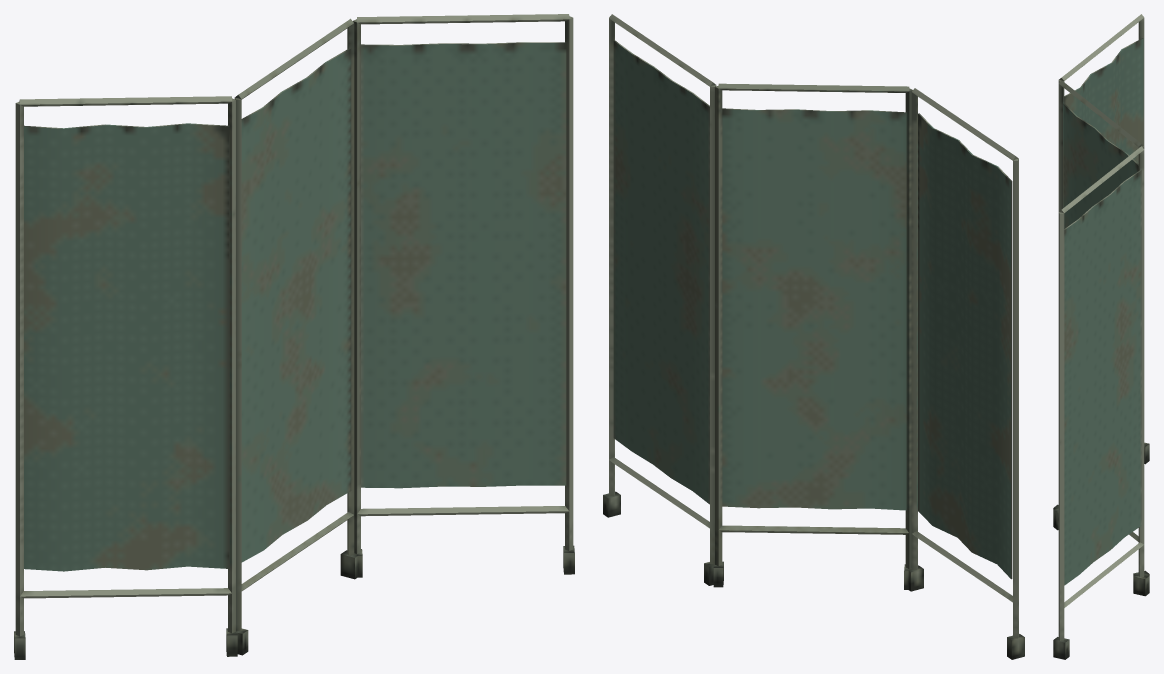
File: Folding_Screen_01.obj
3 views of the same model, side by side, from view 1: azimuth 30°, elevation 25°; view 2: azimuth 150°, elevation 25°; view 3: azimuth 270°, elevation 25° (orthographic). The views are drawn at different scales.
Parts seen in each view (by area): view 1: Folding_Screen_01; view 2: Folding_Screen_01; view 3: Folding_Screen_01.
Part boxes in pixels (x1,y1,x2,y2): Folding_Screen_01: (14, 14, 574, 659); Folding_Screen_01: (603, 14, 1024, 659); Folding_Screen_01: (1053, 14, 1149, 659).
Size of the model in its own units: 1.75 by 1.81 by 0.3531.
Materials: 1 (1 with a texture image).
